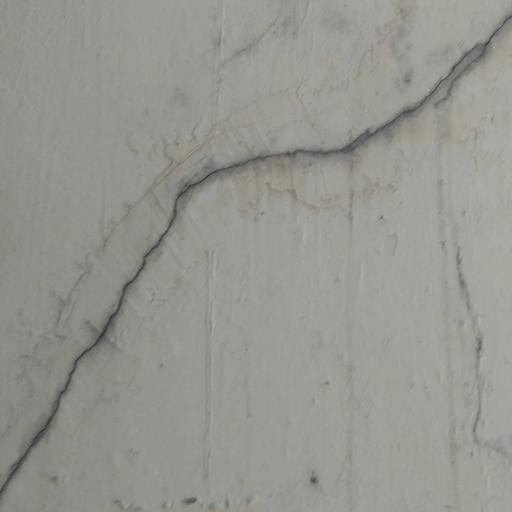major_crack: (0, 0, 511, 512)
